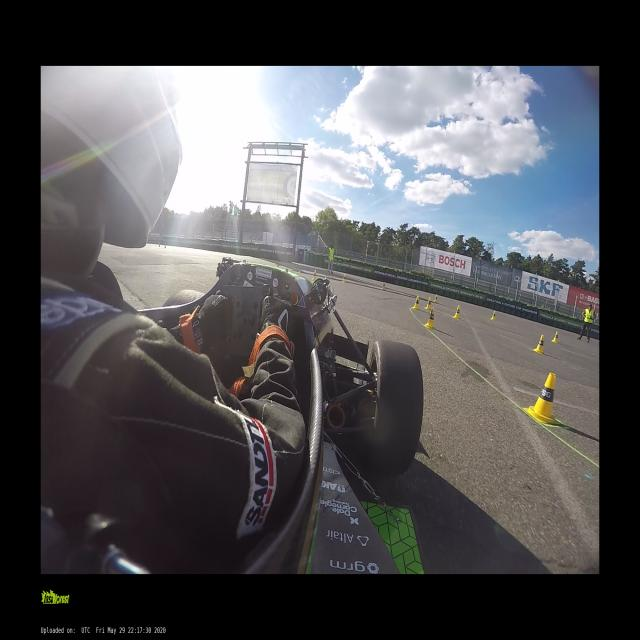yellow_cone: (526, 372, 561, 424), (534, 334, 546, 354), (425, 307, 435, 329), (412, 296, 420, 310), (425, 297, 432, 309), (454, 306, 461, 318), (552, 332, 558, 343), (312, 270, 317, 280), (490, 312, 496, 320), (342, 275, 346, 282), (382, 283, 386, 290), (434, 295, 438, 302), (164, 244, 166, 248), (158, 243, 160, 247)
